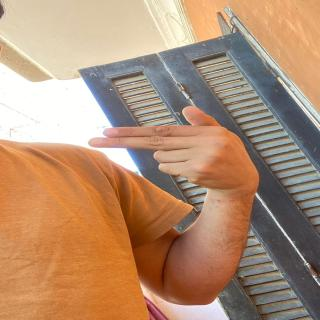GHAYN: (74, 103, 284, 206)
